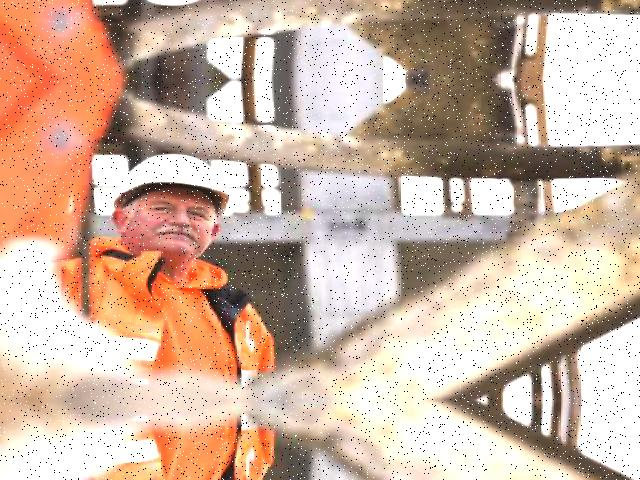Helmet: (106, 149, 238, 219)
